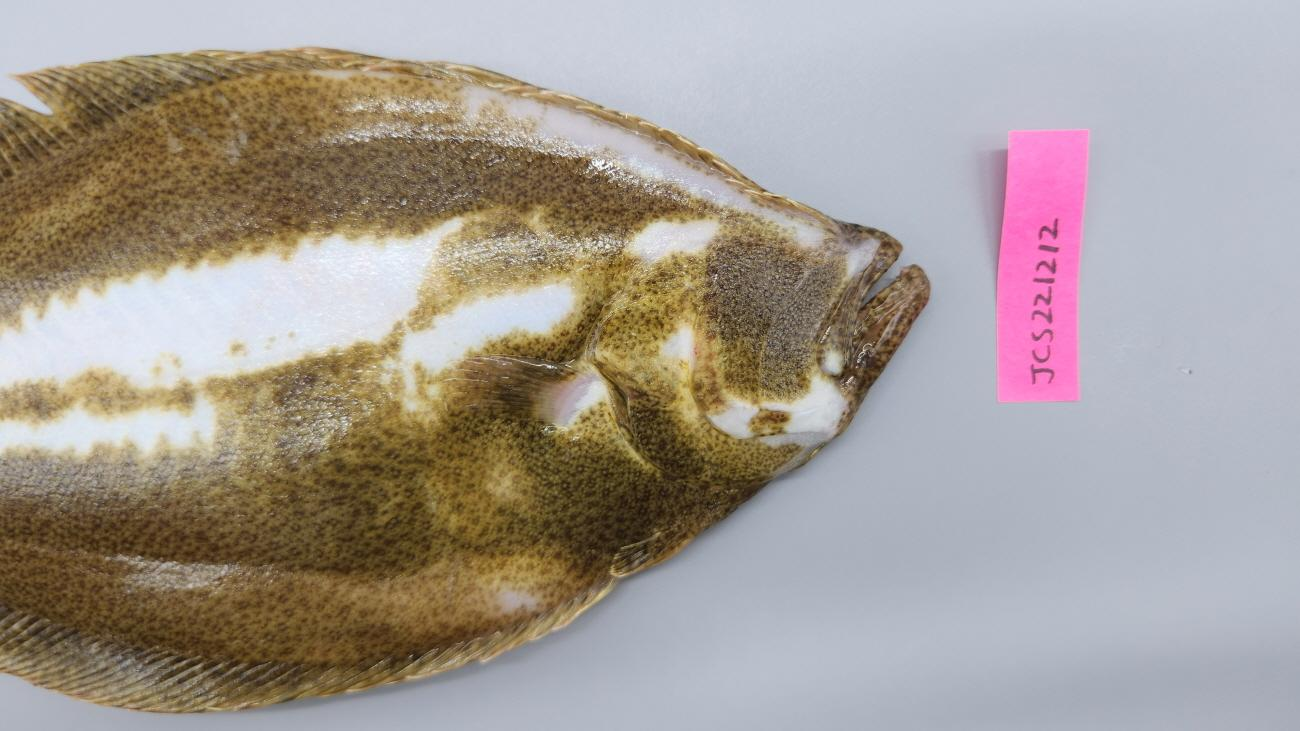POOUN: (0, 46, 931, 716)
